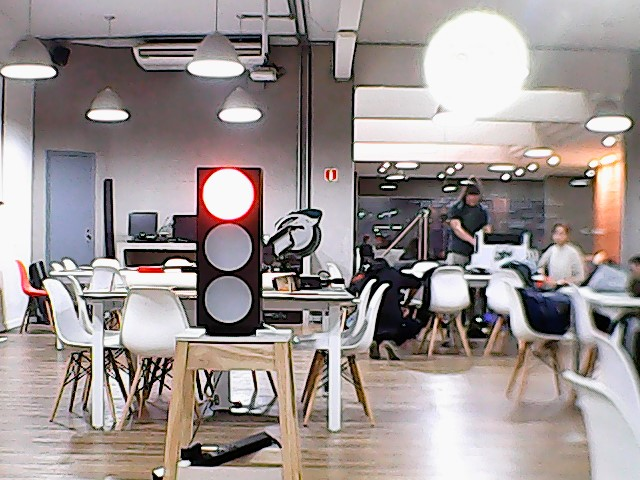vermelho: (190, 165, 269, 333)
